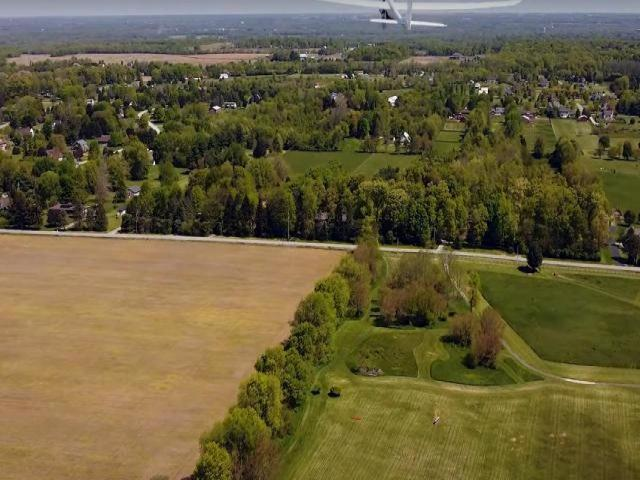iha: (256, 0, 526, 39)
